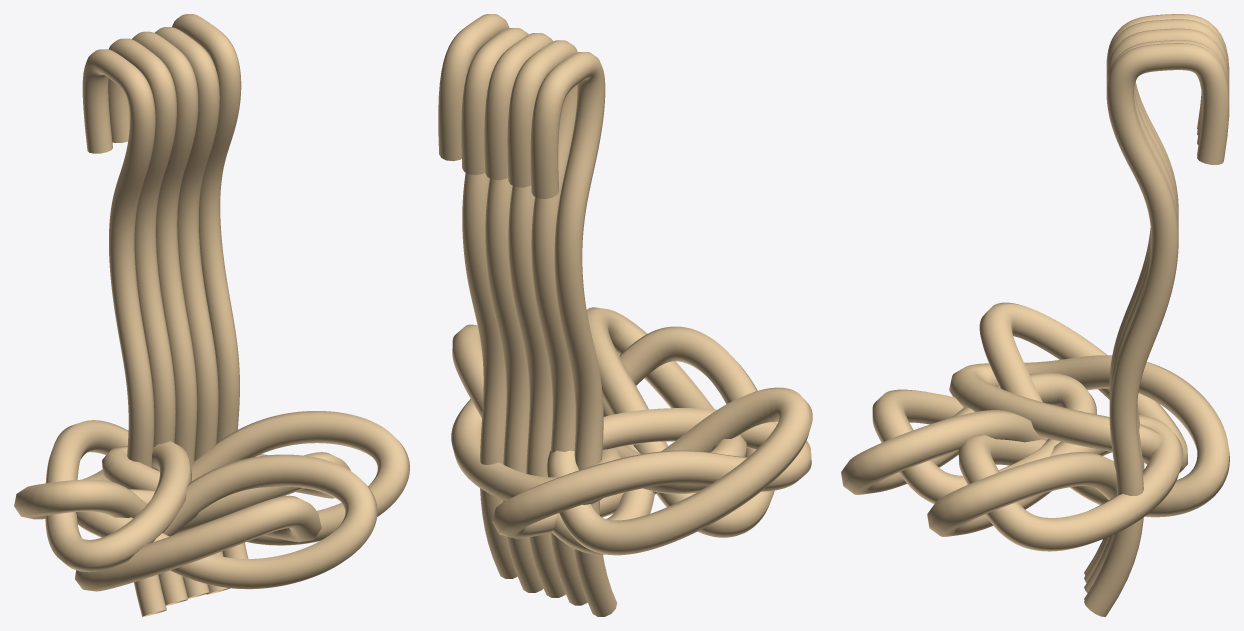
The model's file is Noodle.glb.
3 renders of one model, left to right at view 1: azimuth 30°, elevation 25°; view 2: azimuth 150°, elevation 25°; view 3: azimuth 270°, elevation 25°, orthographic. The views are drawn at different scales.
Visible parts, largest first — view 1: Torus Knot 2 x 3, NurbsPath.008, Torus Knot 2 x 3.001, Torus Knot 2 x 3.002, NurbsPath.007, NurbsPath.004, NurbsPath.006, NurbsPath.005; view 2: Torus Knot 2 x 3.001, NurbsPath.008, Torus Knot 2 x 3, NurbsPath.007, NurbsPath.004, NurbsPath.006, NurbsPath.005, Torus Knot 2 x 3.002; view 3: Torus Knot 2 x 3.001, NurbsPath.004, Torus Knot 2 x 3.002, Torus Knot 2 x 3, NurbsPath.006, NurbsPath.007, NurbsPath.008, NurbsPath.005.
Part boxes in pixels (left/top/right/bottom): Torus Knot 2 x 3: left=74, top=454, right=377, bottom=591; NurbsPath.008: left=82, top=49, right=166, bottom=616; Torus Knot 2 x 3.001: left=14, top=420, right=191, bottom=572; Torus Knot 2 x 3.002: left=102, top=411, right=409, bottom=545; NurbsPath.007: left=108, top=38, right=188, bottom=605; NurbsPath.004: left=172, top=14, right=248, bottom=558; NurbsPath.006: left=132, top=31, right=209, bottom=598; NurbsPath.005: left=155, top=27, right=229, bottom=594; Torus Knot 2 x 3.001: left=492, top=387, right=812, bottom=555; NurbsPath.008: left=530, top=52, right=616, bottom=616; Torus Knot 2 x 3: left=586, top=307, right=774, bottom=537; NurbsPath.007: left=507, top=40, right=587, bottom=605; NurbsPath.004: left=438, top=14, right=517, bottom=578; NurbsPath.006: left=484, top=33, right=565, bottom=597; NurbsPath.005: left=461, top=28, right=543, bottom=592; Torus Knot 2 x 3.002: left=451, top=324, right=654, bottom=554; Torus Knot 2 x 3.001: left=949, top=302, right=1229, bottom=517; NurbsPath.004: left=1084, top=43, right=1229, bottom=616; Torus Knot 2 x 3.002: left=927, top=415, right=1183, bottom=551; Torus Knot 2 x 3: left=841, top=372, right=1096, bottom=503; NurbsPath.006: left=1084, top=28, right=1229, bottom=592; NurbsPath.007: left=1084, top=19, right=1229, bottom=582; NurbsPath.008: left=1084, top=14, right=1229, bottom=575; NurbsPath.005: left=1084, top=40, right=1229, bottom=600.
Bounding box in the file's own units: 1.24 × 1.89 × 1.14.
